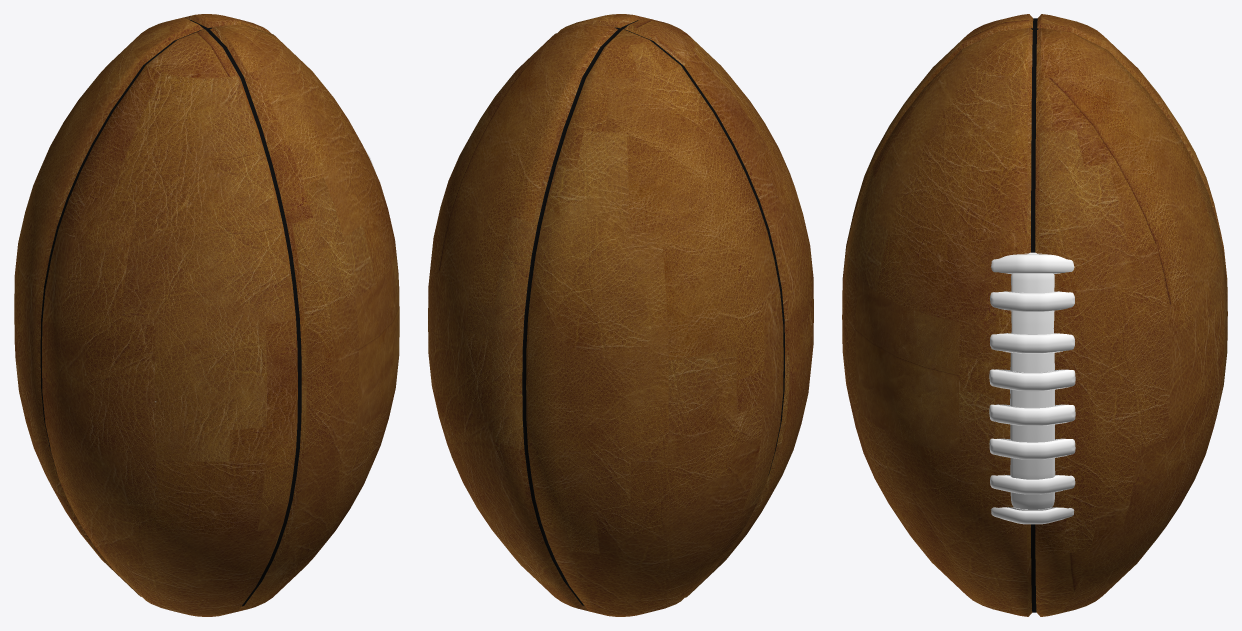
Rendered from sala1-pieza3.glb.
The picture shows the model from 3 angles, left to right: view 1: azimuth 30°, elevation 25°; view 2: azimuth 150°, elevation 25°; view 3: azimuth 270°, elevation 25°; orthographic projection.
Parts seen in each view (by area): view 1: Cube.009_0; view 2: Cube.009_0; view 3: Cube.009_0.
Part boxes in pixels (x1,y1,x2,y2): Cube.009_0: (14, 14, 399, 616); Cube.009_0: (428, 14, 813, 616); Cube.009_0: (842, 14, 1227, 616).
Bounding box in the file's own units: 0.3656 × 0.5905 × 0.3558.
3 materials, 1 textured.
